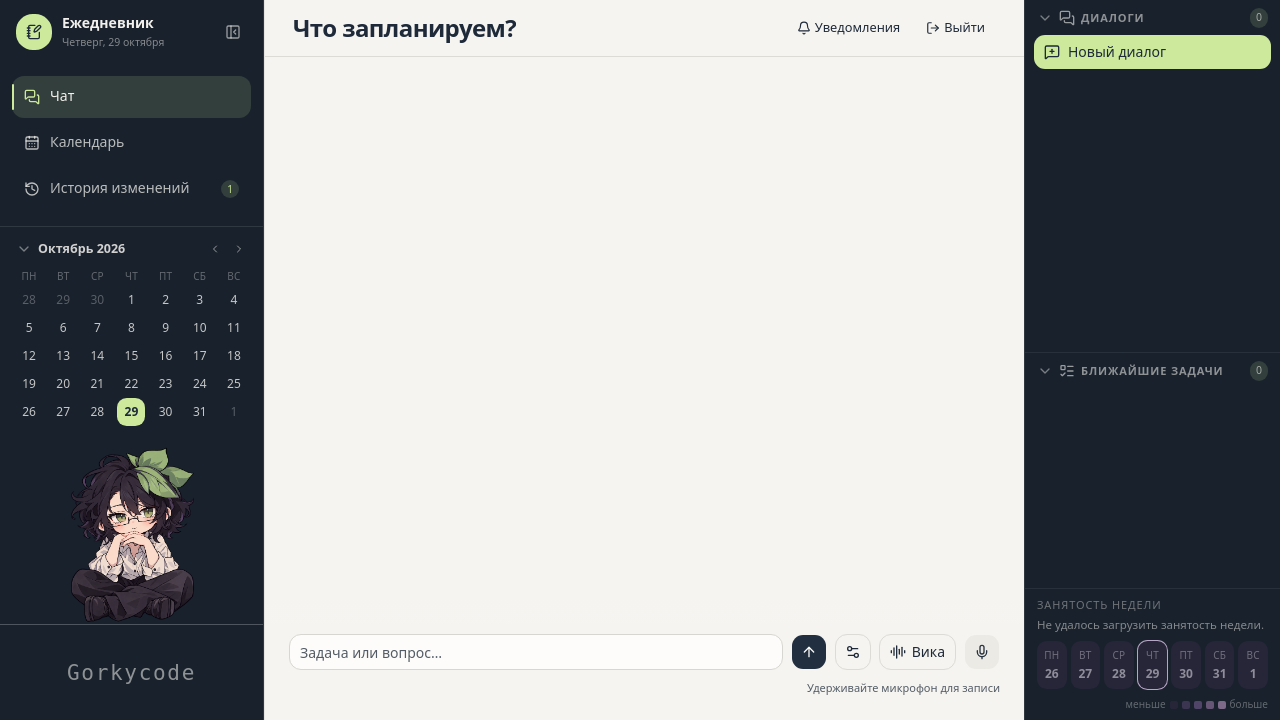
Scenario: planner chat › switches chat, calendar and history from the sidebar
Check: the heading "Что запланируем?" is shown, box [293,12,516,44]
Click the button "Календарь" at coordinates (132, 143), box [12,122,251,164]
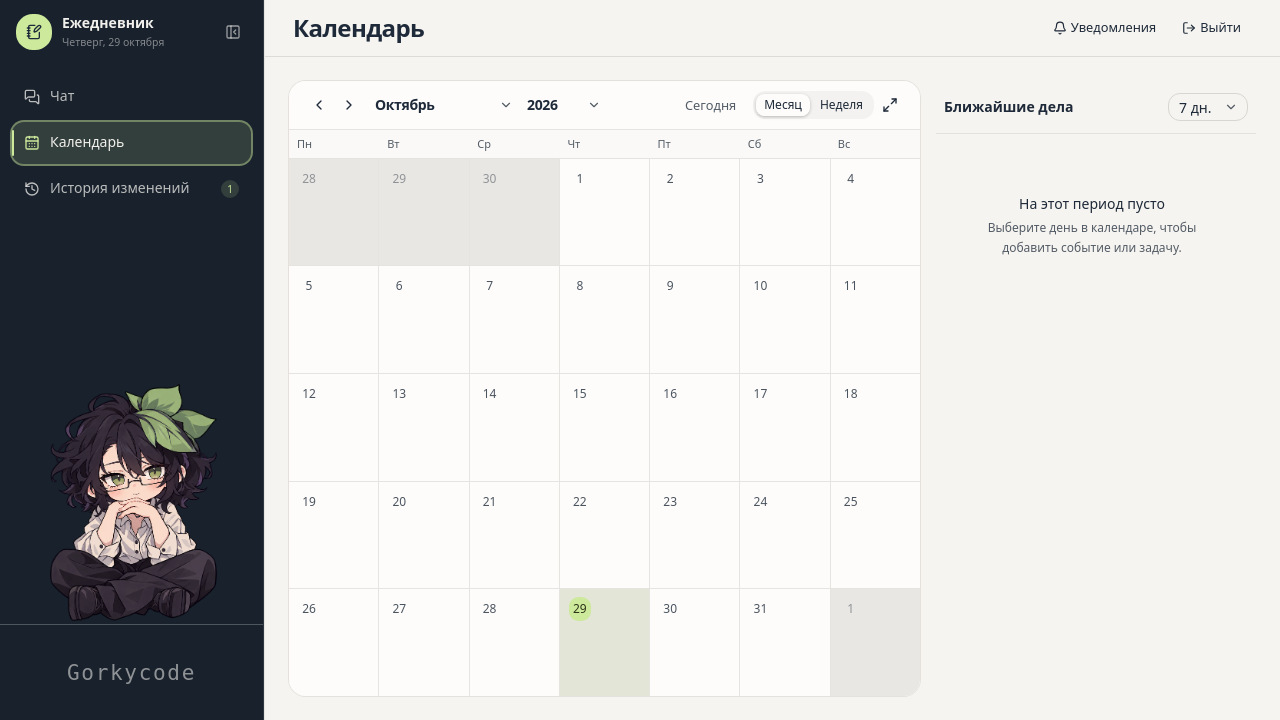
Check: the heading "Календарь" is shown, box [293,12,424,44]
Check: the button named "Развернуть календарь" is shown, box [876,91,904,119]
Click the button "История изменений 1" at coordinates (132, 189), box [12,168,251,210]
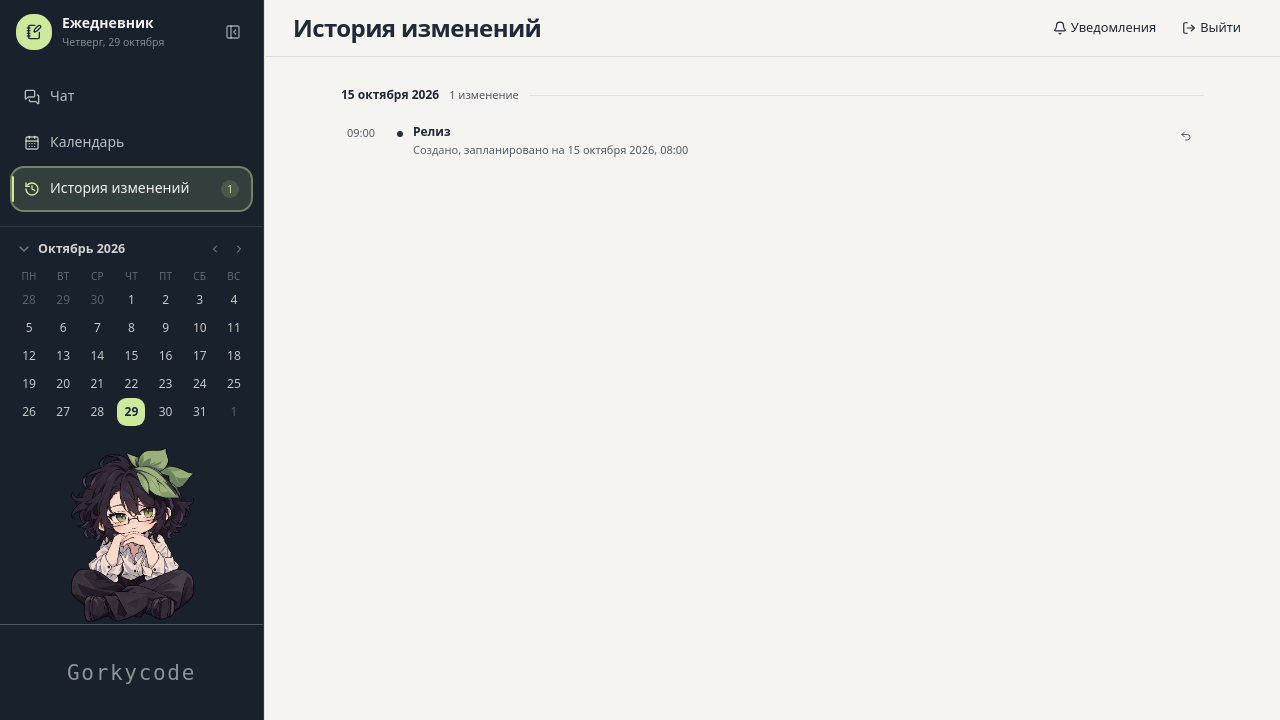
Check: the heading "История изменений" is shown, box [293,12,541,44]
Check: the button named "Отменить создание" is shown, box [1174,124,1198,148]
